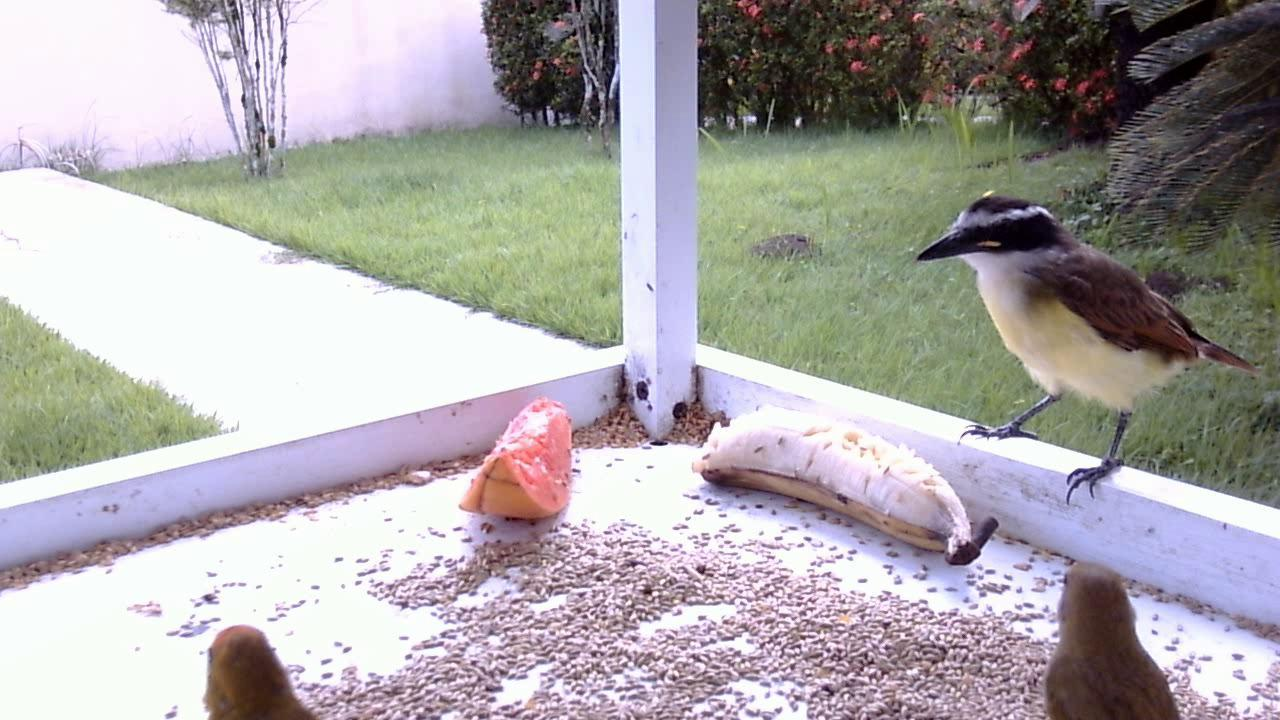bem_te_vi: (905, 184, 1267, 522)
canario_do_amazonas: (1038, 555, 1181, 720), (198, 618, 320, 718)
